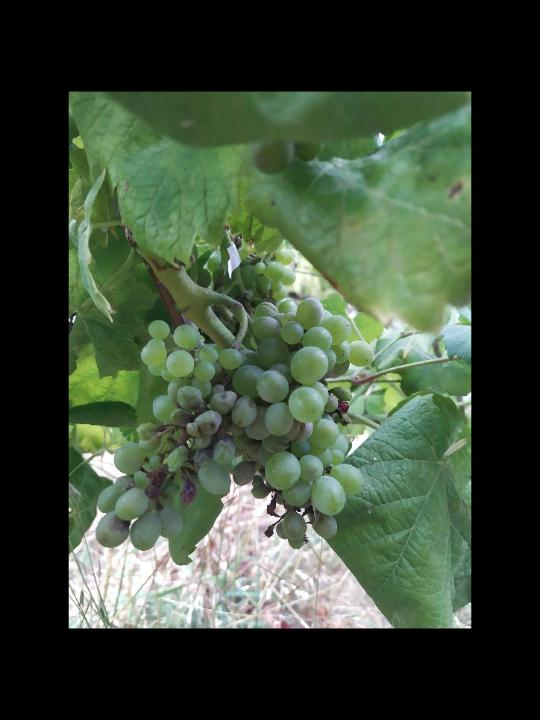grape: (94, 295, 377, 554)
